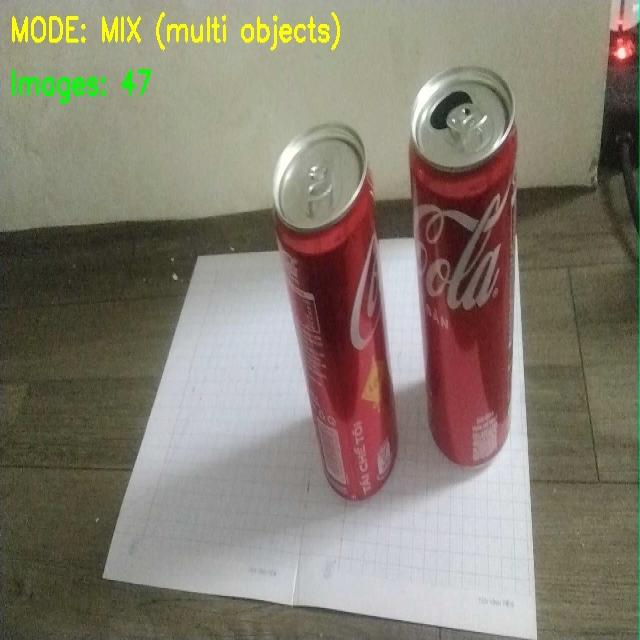Coca: (228, 104, 393, 507)
Coca_open: (401, 67, 562, 477)
